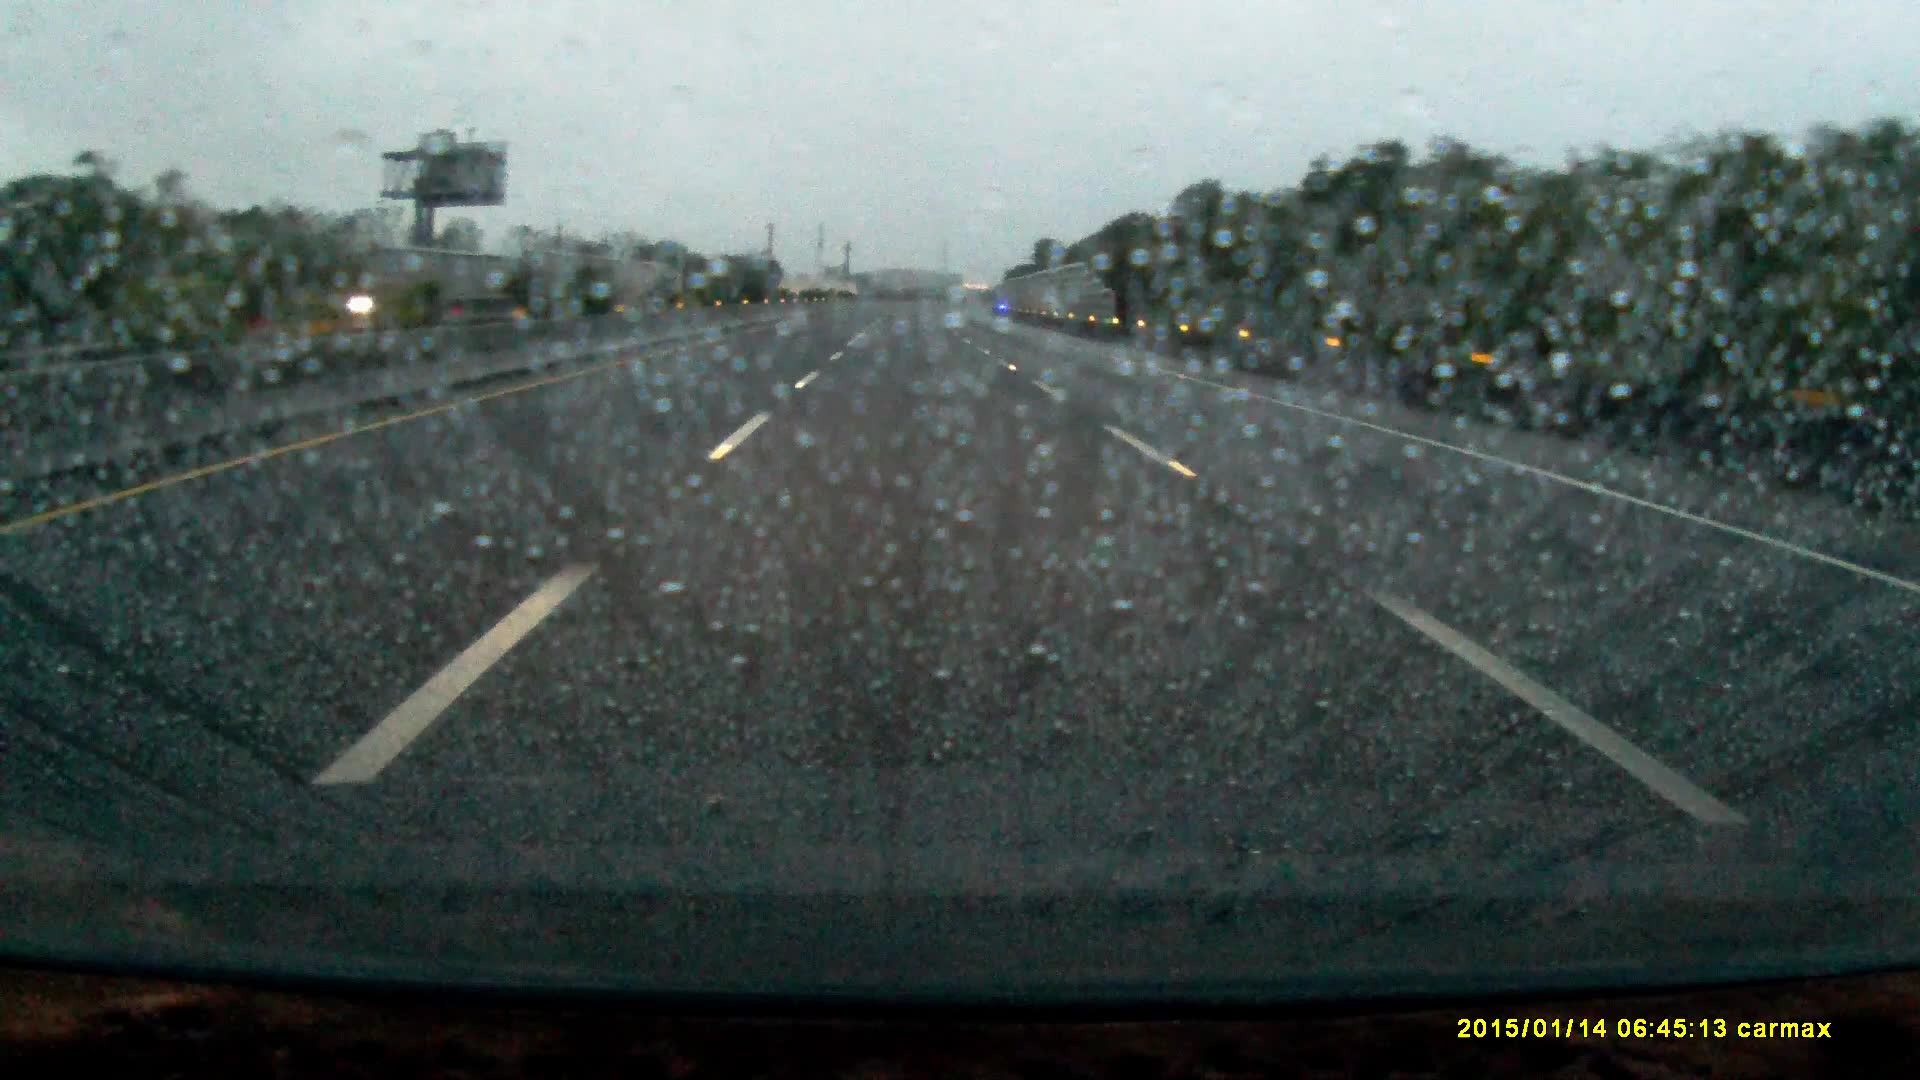vehicle: (335, 274, 472, 319)
